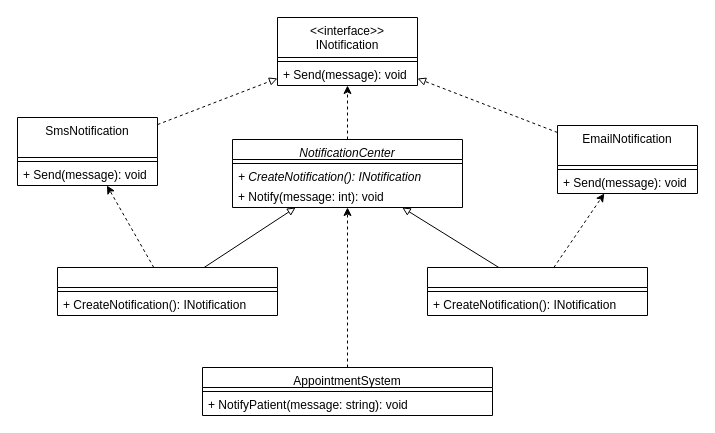
This 715x433 diagram has some shape labels left out. Each missing label, with the box of its shape:
EmailCreator: (426, 266, 648, 316)
SmsCreator: (56, 266, 278, 316)
